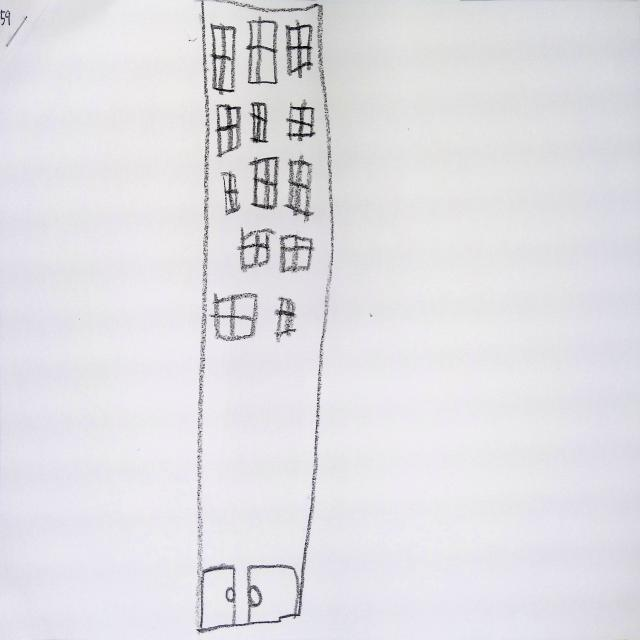door: (248, 567, 299, 624), (201, 568, 234, 630)
house: (198, 0, 333, 632)
wall: (198, 0, 333, 632)
window: (210, 293, 258, 342), (248, 20, 278, 83), (285, 156, 314, 221), (212, 23, 236, 94), (238, 228, 274, 272), (250, 157, 279, 209), (286, 22, 313, 77), (280, 235, 314, 272), (217, 104, 241, 156), (287, 100, 315, 141), (275, 298, 296, 342), (222, 172, 241, 215), (251, 102, 268, 142)
